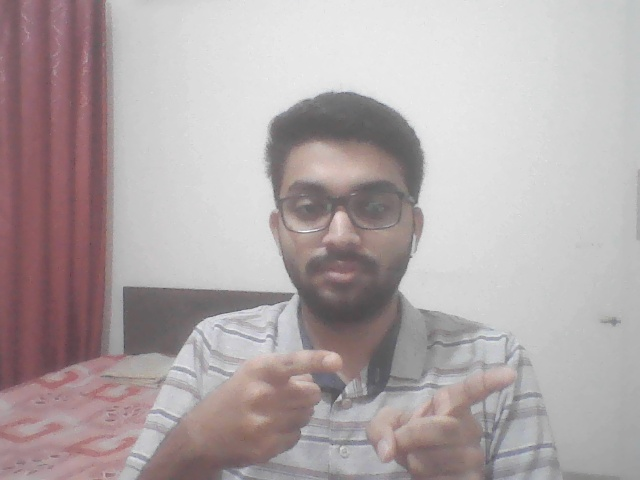go: (153, 333, 539, 480)
